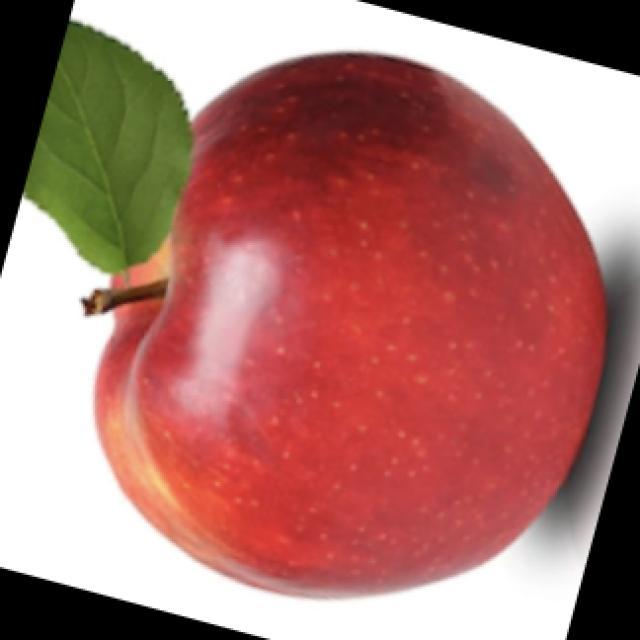Apple: (85, 49, 609, 600)
